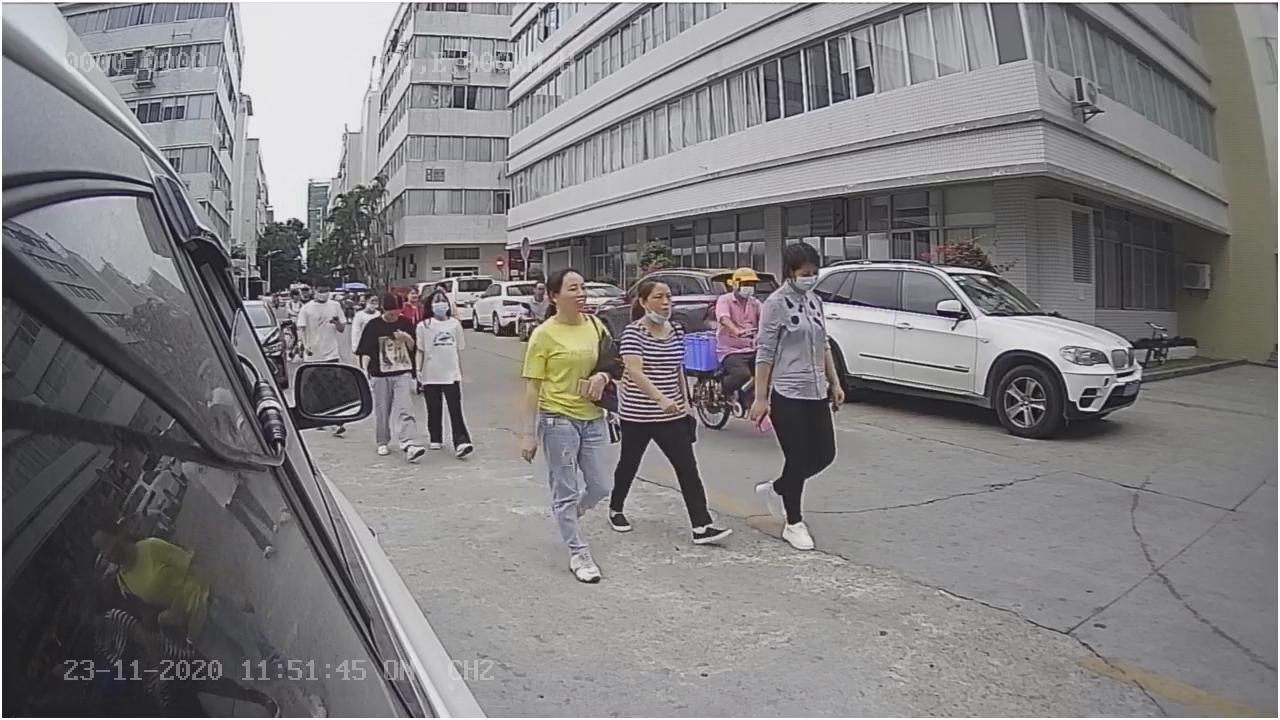person: (519, 254, 617, 579), (750, 234, 850, 551), (414, 285, 479, 455)
